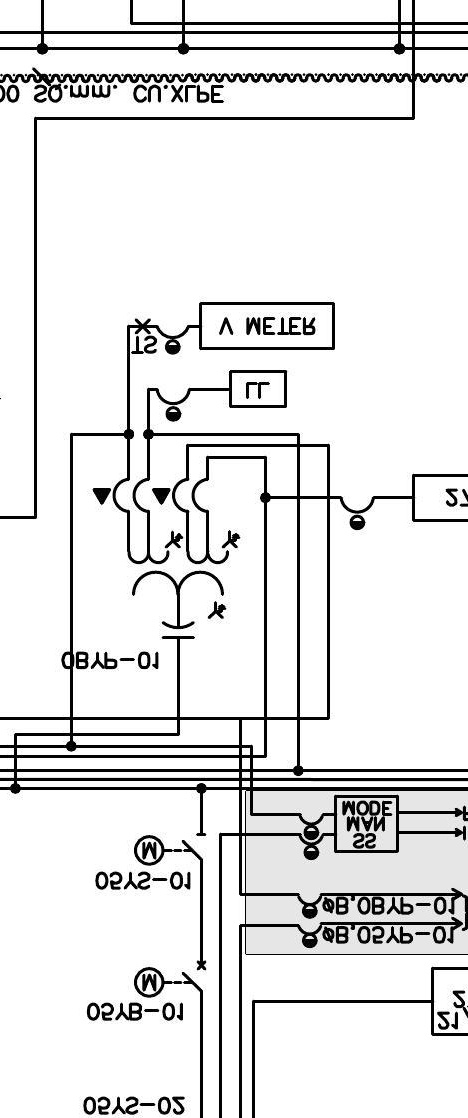115_1way_ds_w_motor: (133, 832, 207, 866)
115_breaker: (181, 960, 207, 993)
115_cvt_3p: (91, 476, 241, 640)
LL: (228, 369, 288, 409)
ss_man_mode: (334, 795, 399, 853)
v_m_digital: (198, 301, 336, 351)
